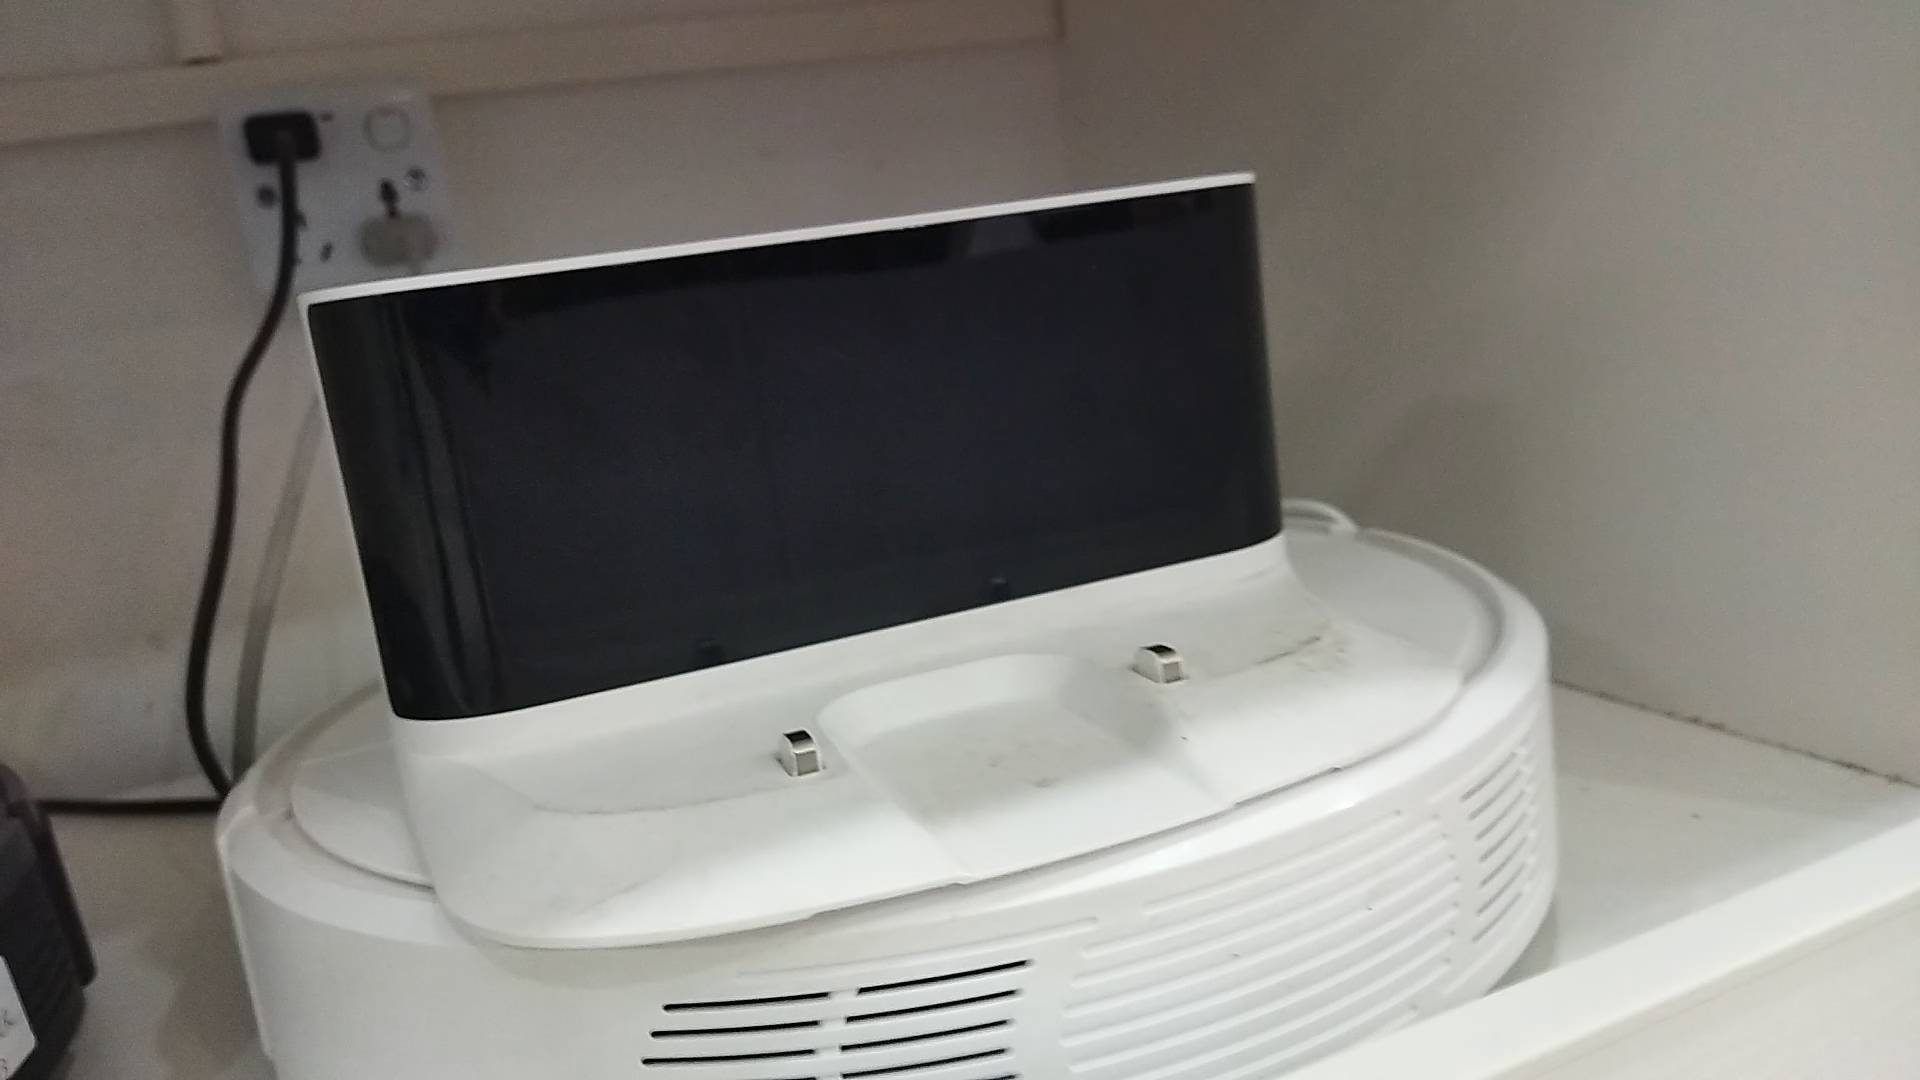recharge seat: (295, 169, 1466, 948)
